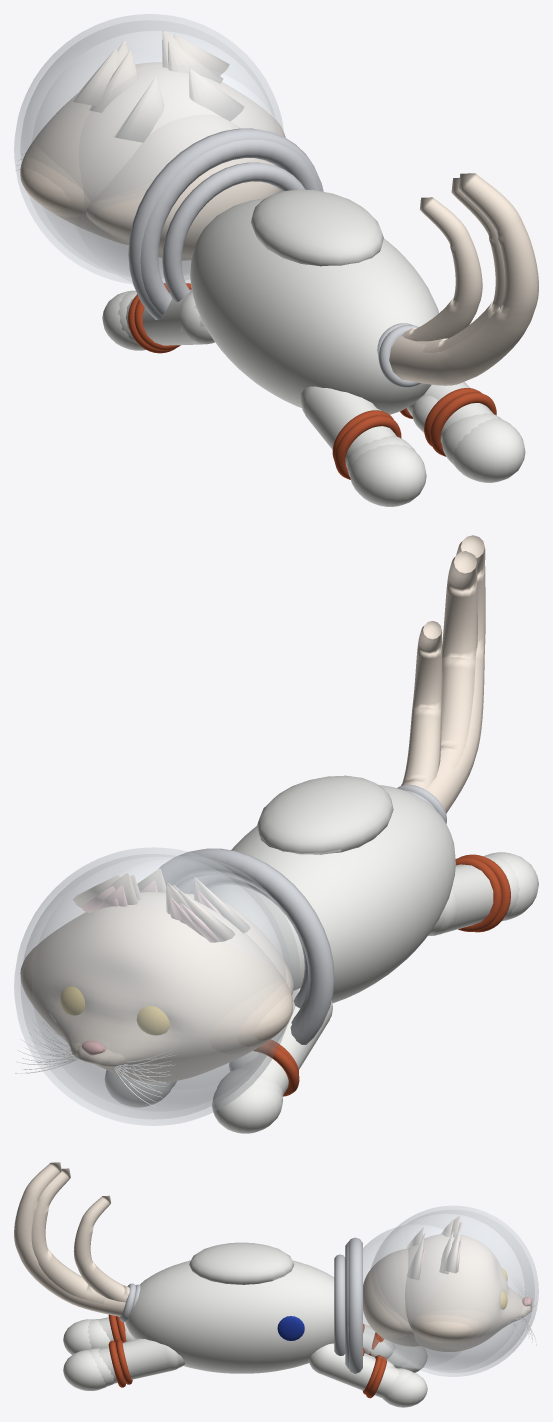
File: cats.glb
3 renders of one model, top to bottom at view 1: azimuth 30°, elevation 25°; view 2: azimuth 150°, elevation 25°; view 3: azimuth 270°, elevation 25°, orthographic. The views are drawn at different scales.
Parts seen in each view (by area): view 1: ash_helmet, ash_suit, simba_helmet, cream_helmet, ash_head, ash_tail, cream_head, ash_pack, ash_leg_bl, pearl_metal, pearl_helmet, ash_metal (+14 smaller); view 2: ash_helmet, simba_helmet, ash_head, ash_suit, ash_pack, ash_metal, pearl_tail, pearl_helmet, ash_leg_fl, cream_tail, ash_leg_bl, ash_tail (+17 smaller); view 3: ash_helmet, ash_suit, simba_helmet, ash_head, cream_helmet, pearl_helmet, cream_head, ash_pack, ash_leg_br, ash_tail, ash_leg_fr, pearl_tail (+19 smaller).
Boxes of the visible parts, x1=… form: ash_helmet: x1=14, y1=14, x2=284, y2=283; ash_suit: x1=190, y1=198, x2=438, y2=414; simba_helmet: x1=20, y1=20, x2=274, y2=274; cream_helmet: x1=81, y1=82, x2=284, y2=285; ash_head: x1=20, y1=62, x2=285, y2=244; ash_tail: x1=389, y1=173, x2=538, y2=385; cream_head: x1=86, y1=115, x2=281, y2=260; ash_pack: x1=251, y1=189, x2=383, y2=266; ash_leg_bl: x1=301, y1=386, x2=426, y2=506; pearl_metal: x1=140, y1=139, x2=412, y2=359; pearl_helmet: x1=32, y1=31, x2=270, y2=278; ash_metal: x1=128, y1=128, x2=420, y2=387; ash_helmet: x1=14, y1=847, x2=292, y2=1125; simba_helmet: x1=20, y1=854, x2=285, y2=1119; ash_head: x1=20, y1=892, x2=292, y2=1082; ash_suit: x1=210, y1=785, x2=455, y2=1003; ash_pack: x1=257, y1=775, x2=393, y2=853; ash_metal: x1=159, y1=784, x2=446, y2=1044; pearl_tail: x1=431, y1=551, x2=477, y2=783; pearl_helmet: x1=34, y1=857, x2=285, y2=1111; ash_leg_fl: x1=212, y1=988, x2=332, y2=1133; cream_tail: x1=401, y1=621, x2=442, y2=789; ash_leg_bl: x1=428, y1=852, x2=538, y2=935; ash_tail: x1=425, y1=535, x2=485, y2=813; ash_helmet: x1=370, y1=1206, x2=538, y2=1376; ash_suit: x1=125, y1=1260, x2=334, y2=1373; simba_helmet: x1=404, y1=1210, x2=534, y2=1372; ash_head: x1=405, y1=1234, x2=529, y2=1351; cream_helmet: x1=363, y1=1225, x2=424, y2=1367; pearl_helmet: x1=373, y1=1214, x2=524, y2=1370; cream_head: x1=363, y1=1249, x2=420, y2=1346; ash_pack: x1=189, y1=1242, x2=294, y2=1284; ash_leg_br: x1=63, y1=1338, x2=179, y2=1390; ash_tail: x1=14, y1=1162, x2=125, y2=1316; ash_leg_fr: x1=309, y1=1343, x2=427, y2=1407; pearl_tail: x1=31, y1=1168, x2=108, y2=1304.
Bounding box in the file's own units: 1.71 × 2.39 × 4.99.
